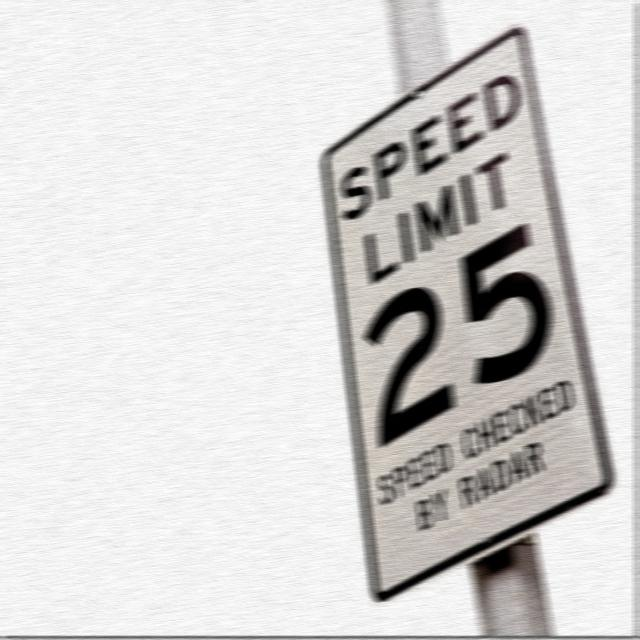speedLimit25: (318, 22, 612, 593)
